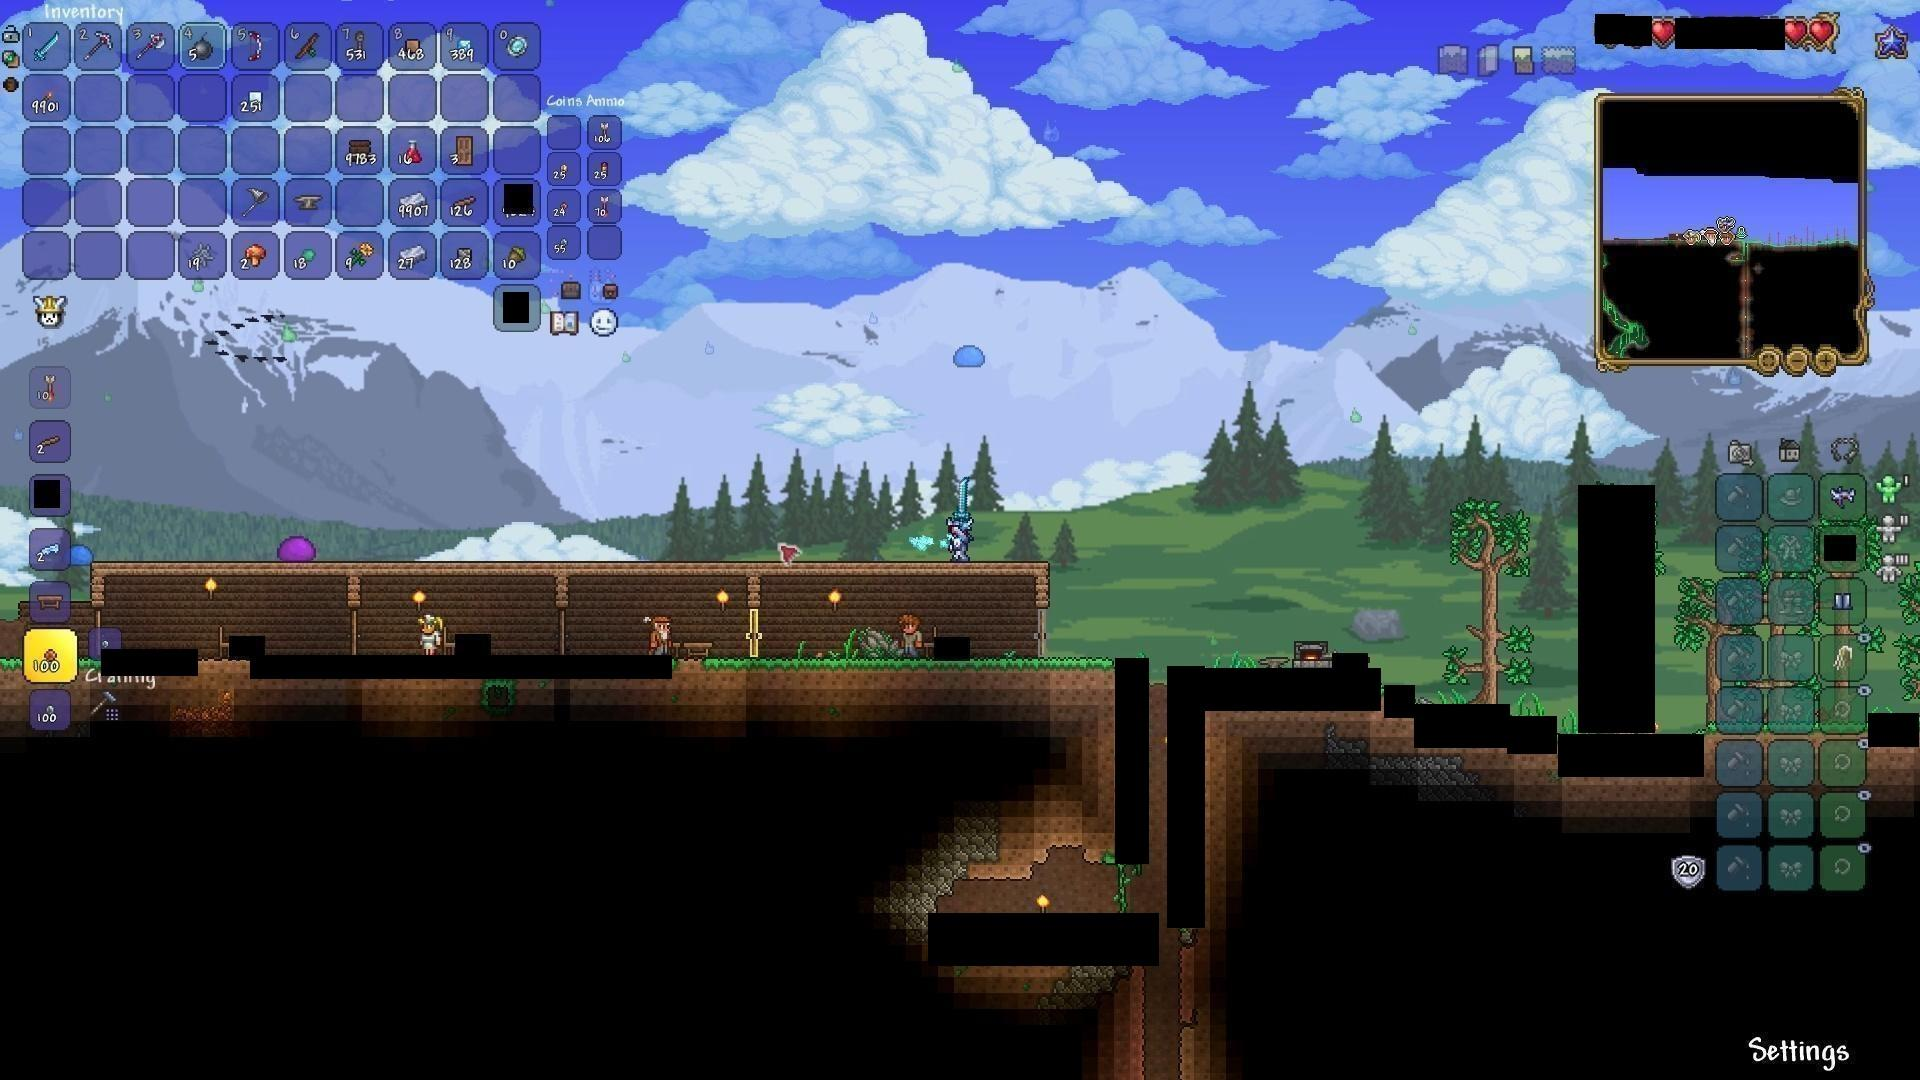dirt: (702, 654, 1113, 686)
heart: (1783, 18, 1811, 47), (1650, 17, 1676, 47), (1809, 16, 1836, 46)
helmet: (1828, 483, 1863, 514)
legs: (1829, 585, 1854, 615)
slime: (278, 533, 318, 564), (949, 342, 992, 371)
tree: (1456, 495, 1520, 702), (1676, 574, 1722, 728)
workbench: (32, 587, 66, 615), (680, 638, 715, 661)
